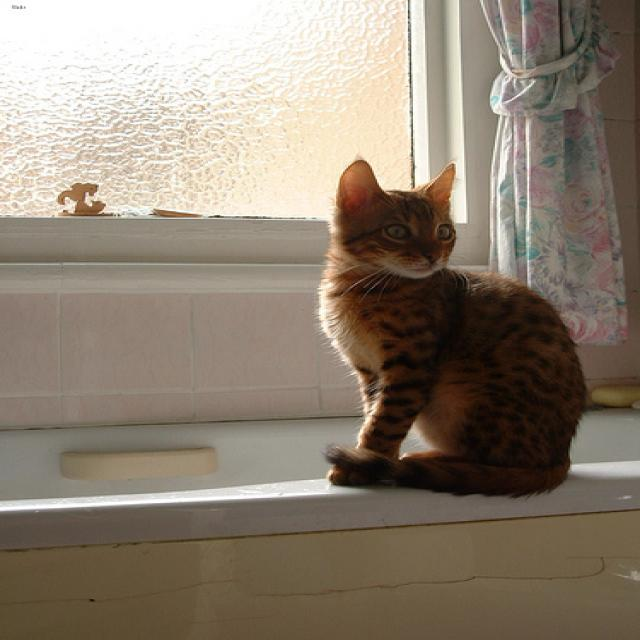Bengal: (323, 150, 480, 281)
